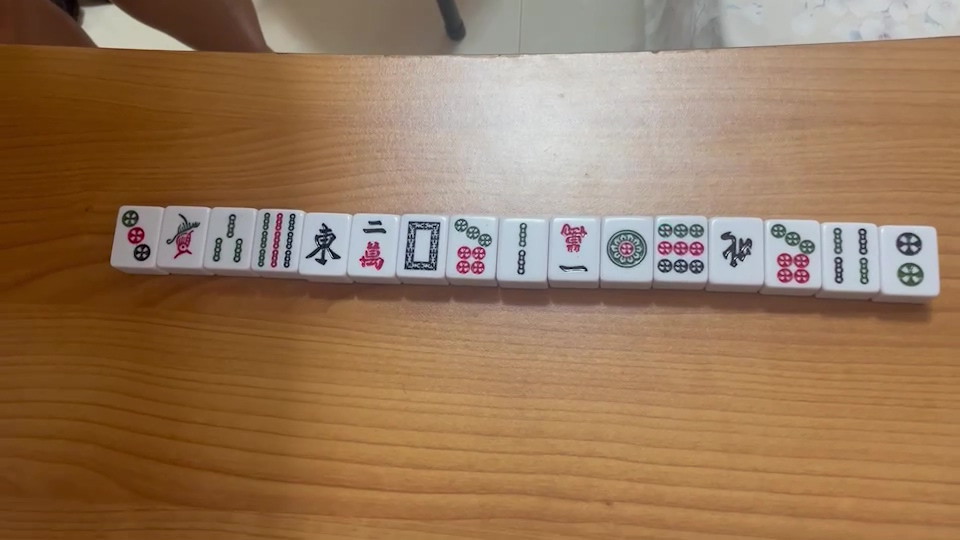b-1: (163, 211, 204, 259)
b-2: (507, 220, 533, 277)
b-3: (210, 213, 247, 264)
b-4: (827, 225, 874, 285)
b-9: (256, 210, 299, 270)
c-1: (553, 221, 594, 278)
c-2: (357, 218, 391, 271)
d-1: (606, 227, 647, 271)
d-2: (889, 230, 928, 288)
d-3: (117, 210, 154, 264)
d-7: (769, 223, 815, 284), (448, 216, 493, 277)
d-9: (654, 220, 707, 276)
honors-east: (304, 219, 343, 269)
honors-north: (717, 224, 756, 272)
honors-white: (400, 216, 445, 275)
